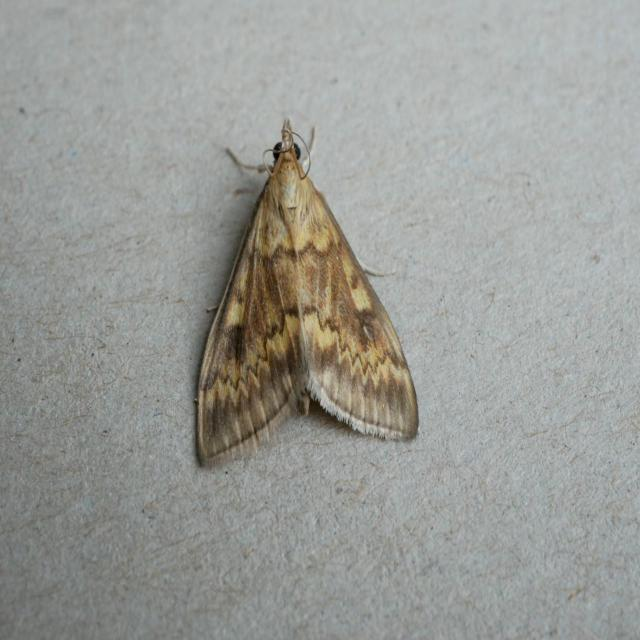cornborer-Adult-: (180, 96, 431, 487)
